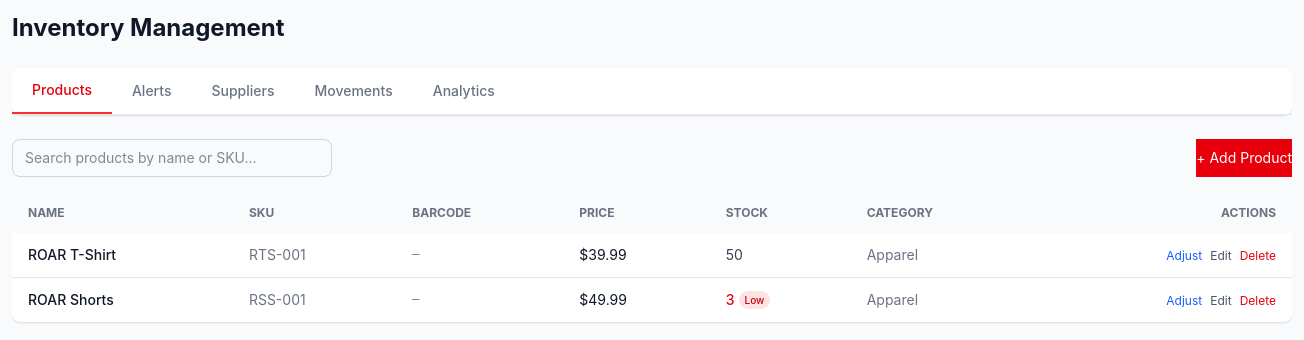
Test: InventoryManagement › Tab Navigation › switches tabs on click
The image size is (1304, 340).
Click the button "analytics": (464, 91) [413,68,515,114]
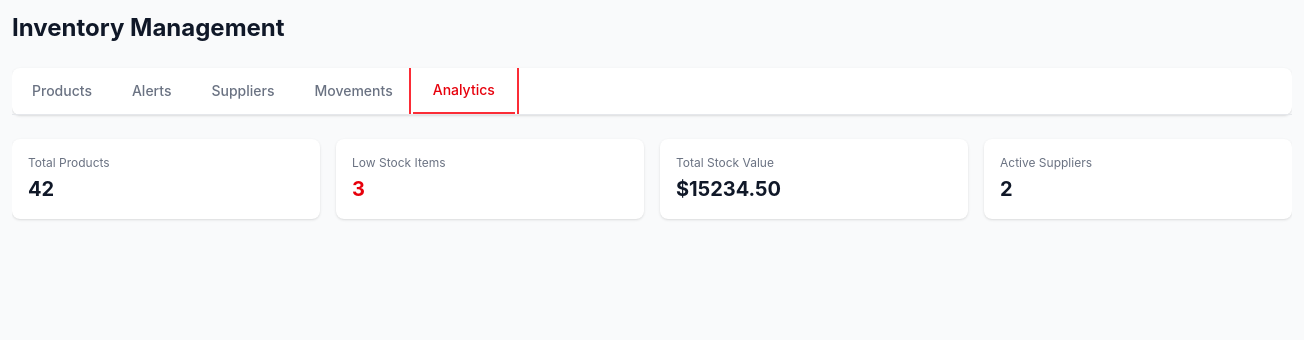
Now the text "Total Products" is shown, box [28,155,110,170]
